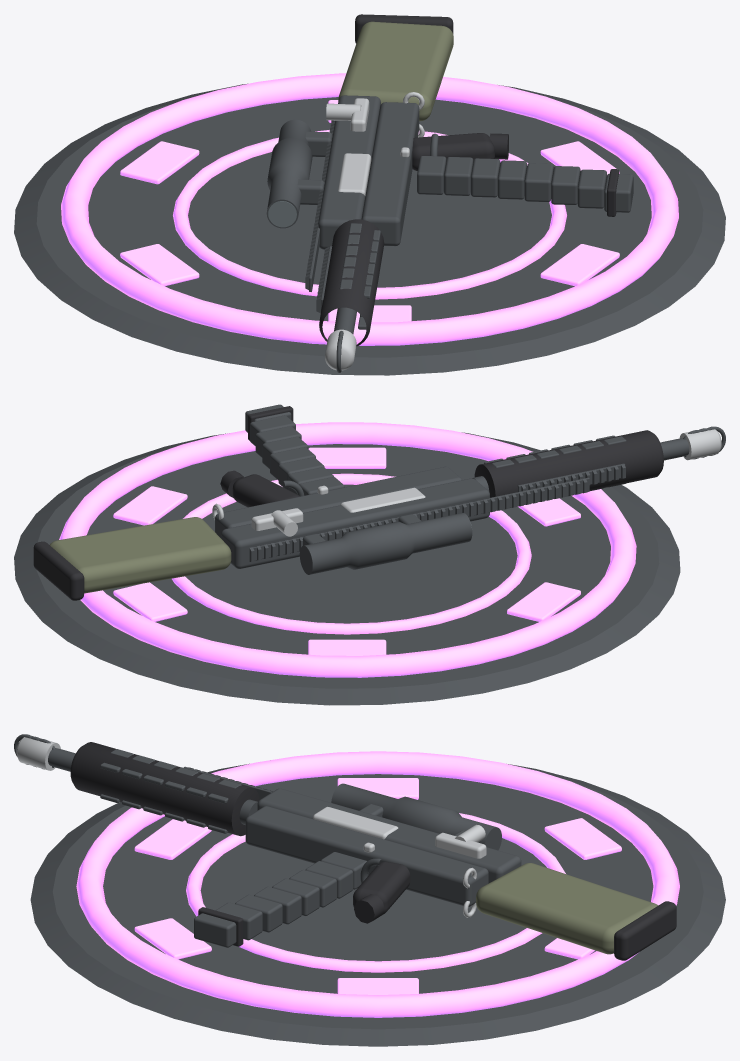
File: battle-royale-town-and-airfield-loot-battle-rifle-epic-914e4cac__28219.glb
3 views of the same model, one above another, from view 1: azimuth 30°, elevation 25°; view 2: azimuth 150°, elevation 25°; view 3: azimuth 270°, elevation 25° (orthographic). The views are drawn at different scales.
Parts seen in each view (by area): view 1: loot-battle-rifle-epic, magazine/gunmetal, bolt; view 2: loot-battle-rifle-epic, magazine/gunmetal, bolt; view 3: loot-battle-rifle-epic, magazine/gunmetal, bolt, magazine/black.
Part boxes in pixels (x1=…): loot-battle-rifle-epic: x1=14, y1=14, x2=725, y2=375; magazine/gunmetal: x1=417, y1=156, x2=633, y2=212; bolt: x1=326, y1=98, x2=369, y2=131; loot-battle-rifle-epic: x1=14, y1=422, x2=725, y2=705; magazine/gunmetal: x1=245, y1=404, x2=344, y2=495; bolt: x1=251, y1=508, x2=303, y2=536; loot-battle-rifle-epic: x1=14, y1=734, x2=725, y2=1046; magazine/gunmetal: x1=194, y1=852, x2=368, y2=947; bolt: x1=435, y1=824, x2=486, y2=858; magazine/black: x1=198, y1=907, x2=243, y2=946.
Size of the model in its own units: 0.94 by 0.1177 by 0.9624.
